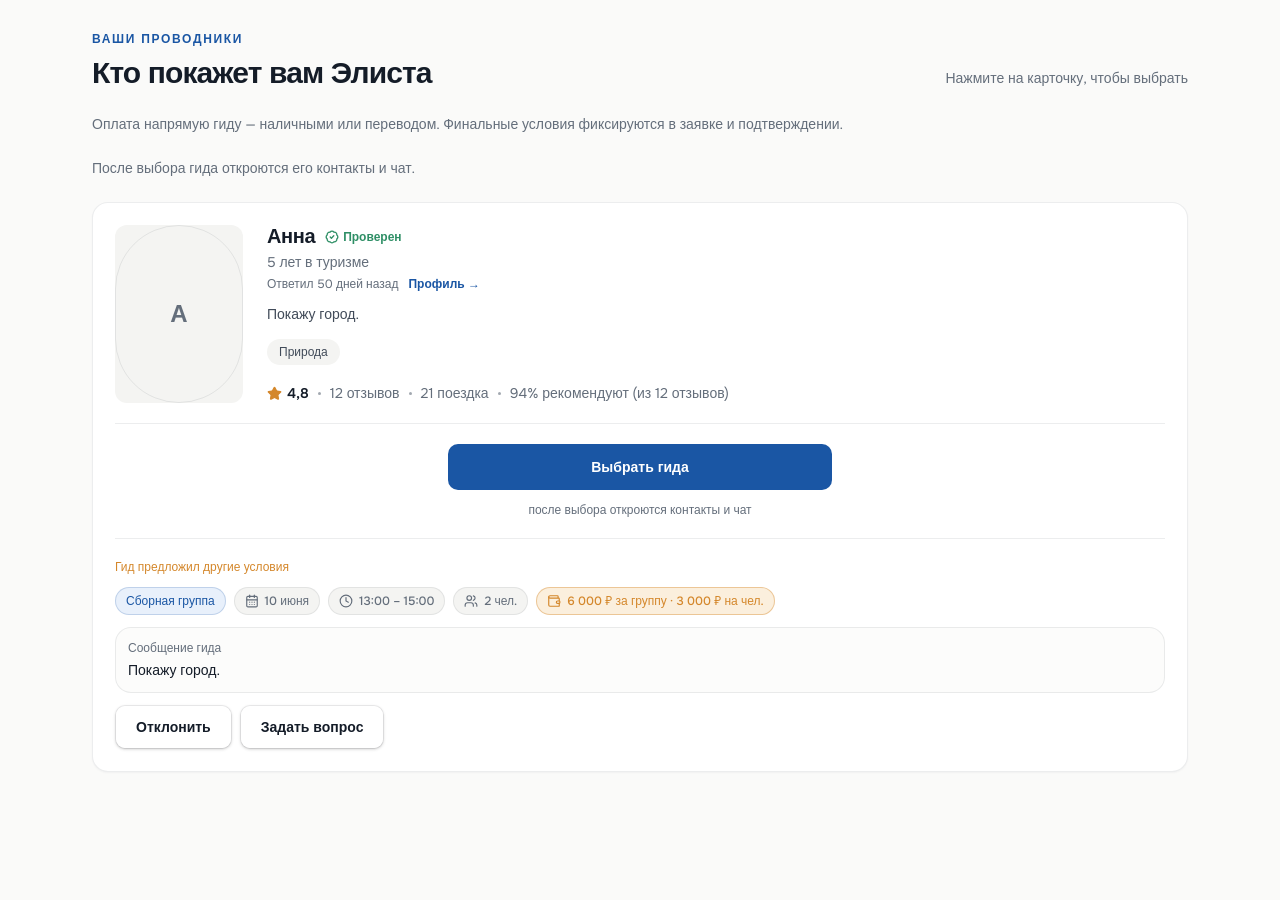
Test case: RequestDetailPage owner confirm gate › mounts the useConfirm gate in OwnerDetailBranch: accepting opens a confirm dialog
(page scrolled)
# Select the guide → sticky action bar with the real accept button mounts
Click the button "Выбрать гида": (640, 467) [448,444,832,490]
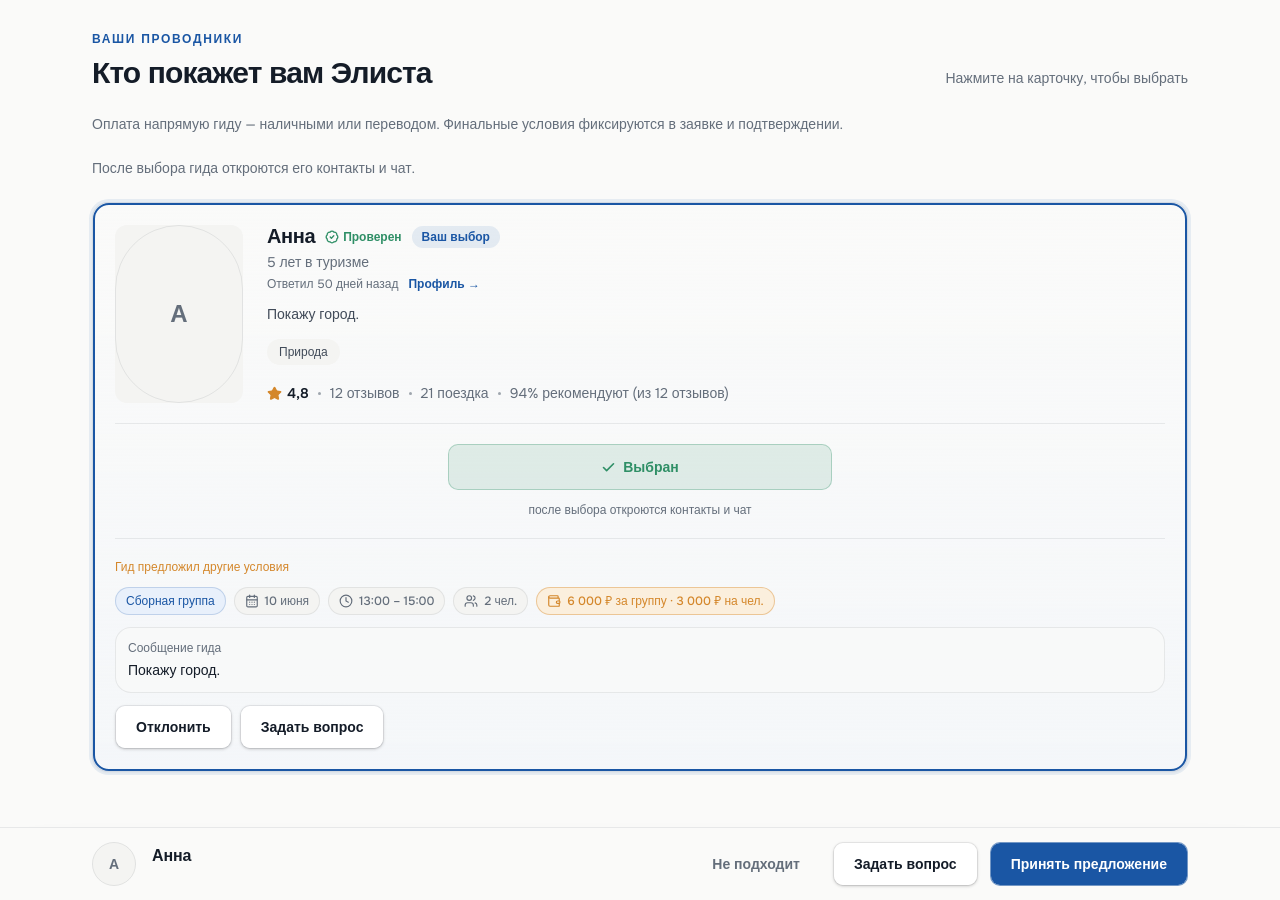
Click the button "Принять предложение": (1089, 864) [990,842,1188,886]
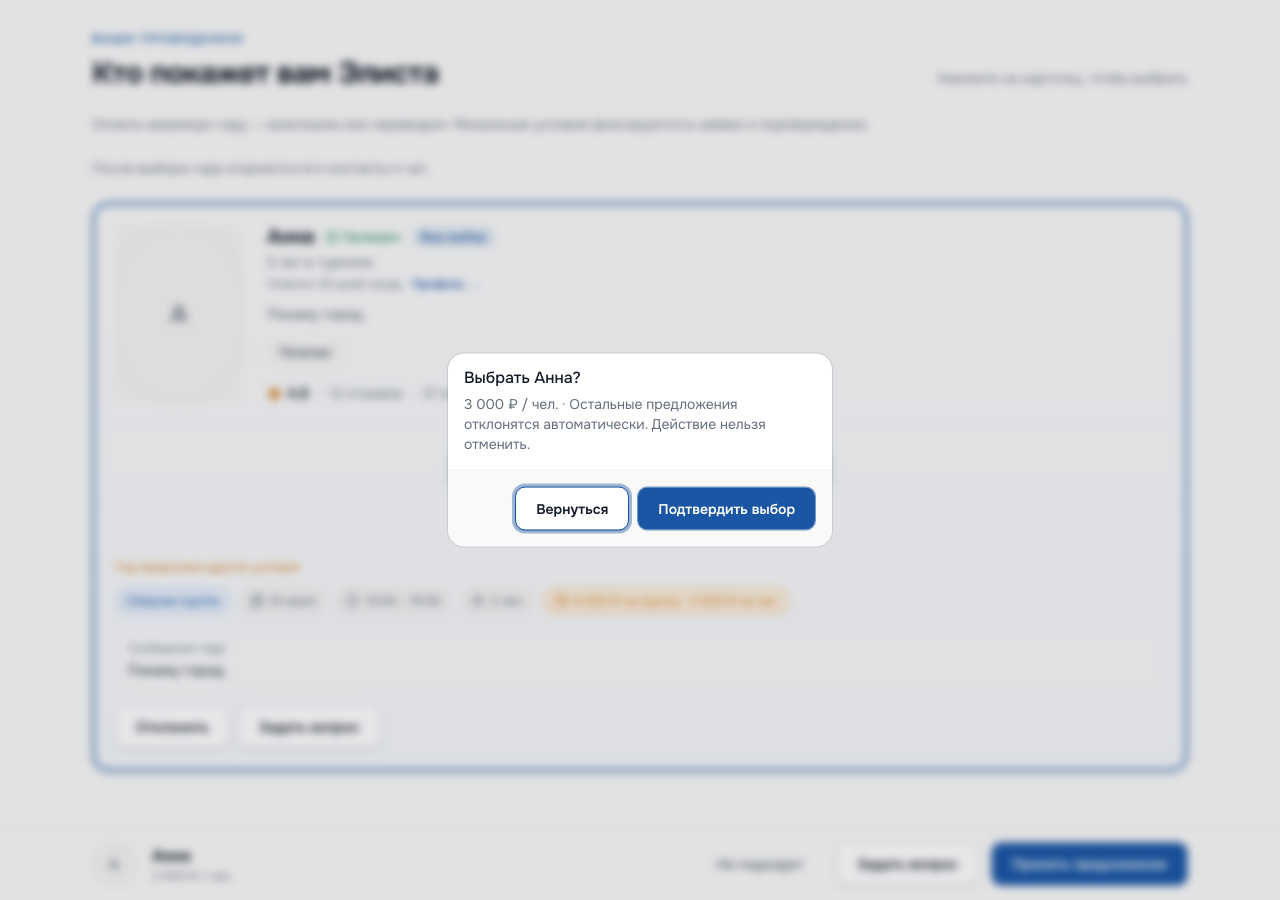
Check: the heading "Выбрать Анна?" is shown, box [464,366,581,388]
Check: the button "Подтвердить выбор" is shown, box [637,486,816,530]
